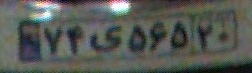character: (87, 23, 125, 57), (167, 18, 190, 54), (127, 22, 148, 58), (64, 24, 85, 57), (148, 19, 167, 55), (195, 21, 214, 54), (43, 24, 62, 55), (217, 28, 230, 48)
